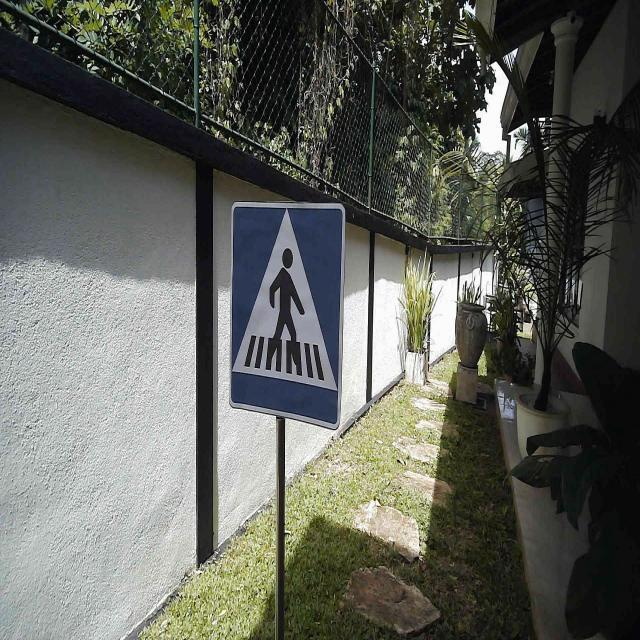crosswalk_sign: (227, 197, 348, 430)
